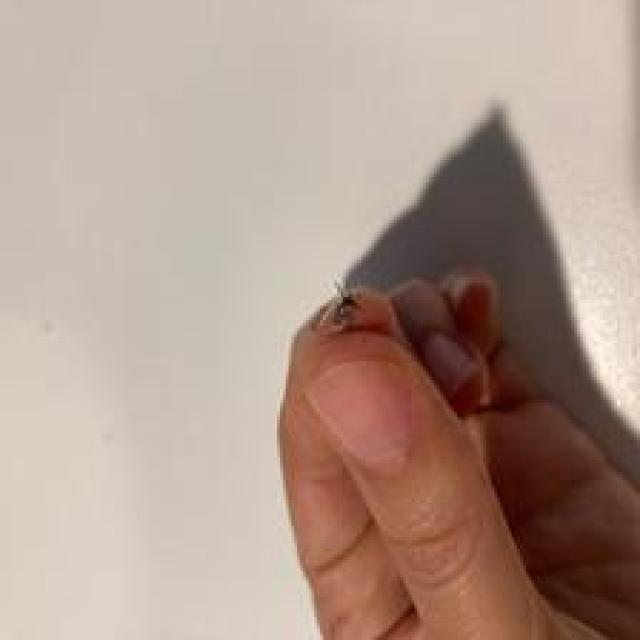Aedes albopictus: (317, 101, 640, 638)
